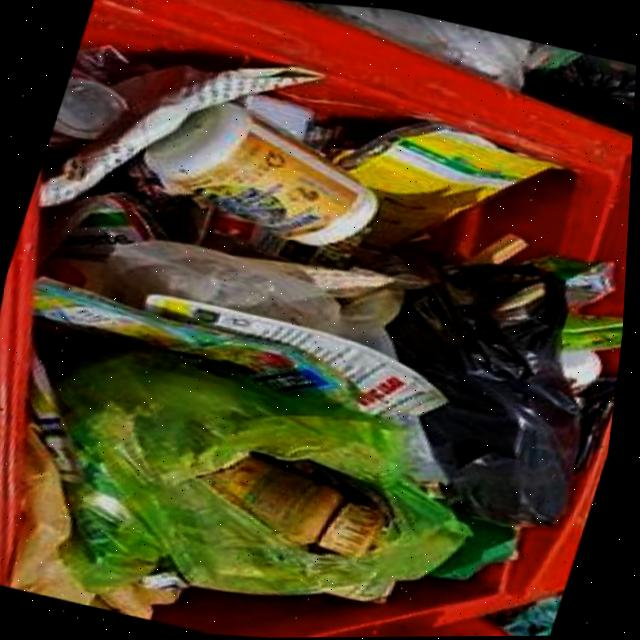Garbage: (16, 46, 627, 620)
Plastic_Bag: (60, 349, 473, 594), (391, 258, 584, 525), (51, 240, 406, 356), (14, 428, 186, 620), (435, 513, 522, 580)
Plastic_bottle: (140, 103, 374, 245), (208, 456, 390, 558)
can: (50, 77, 124, 141)
